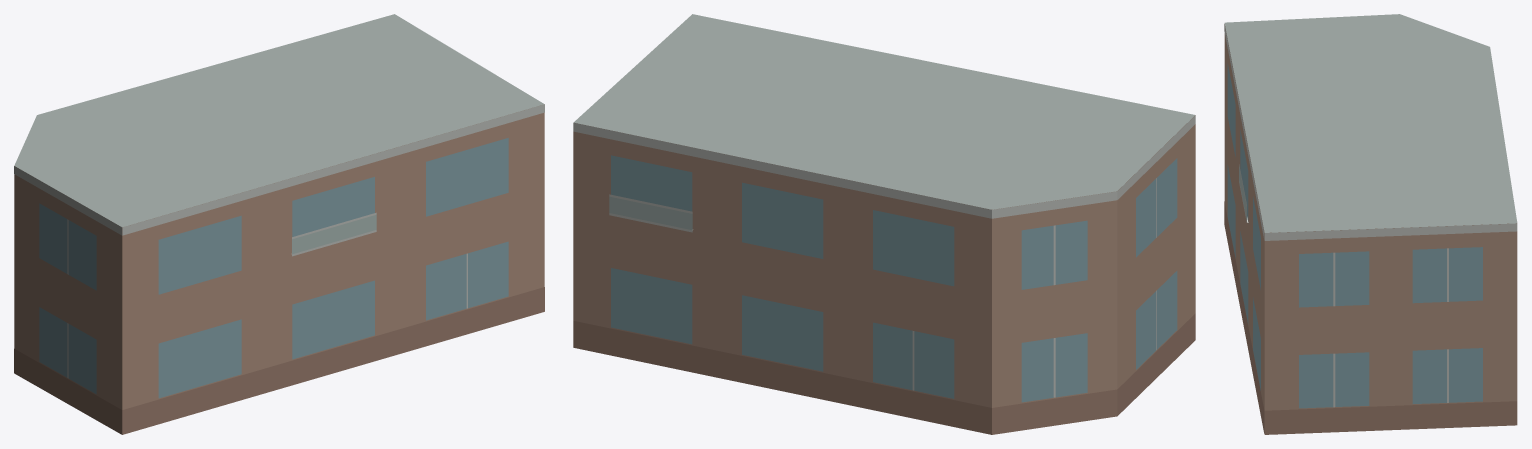
File: survey-upis-32711422.glb
3 views of the same model, side by side, from view 1: azimuth 30°, elevation 25°; view 2: azimuth 150°, elevation 25°; view 3: azimuth 270°, elevation 25° (orthographic). The views are drawn at different scales.
Parts seen in each view (by area): view 1: survey-upis-32711422.tmp; view 2: survey-upis-32711422.tmp; view 3: survey-upis-32711422.tmp.
Part boxes in pixels (left/top/right/bottom): survey-upis-32711422.tmp: left=14, top=14, right=544, bottom=434; survey-upis-32711422.tmp: left=573, top=14, right=1195, bottom=434; survey-upis-32711422.tmp: left=1224, top=14, right=1517, bottom=434.
Bounding box in the file's own units: 14.2 × 6.1 × 8.03.
